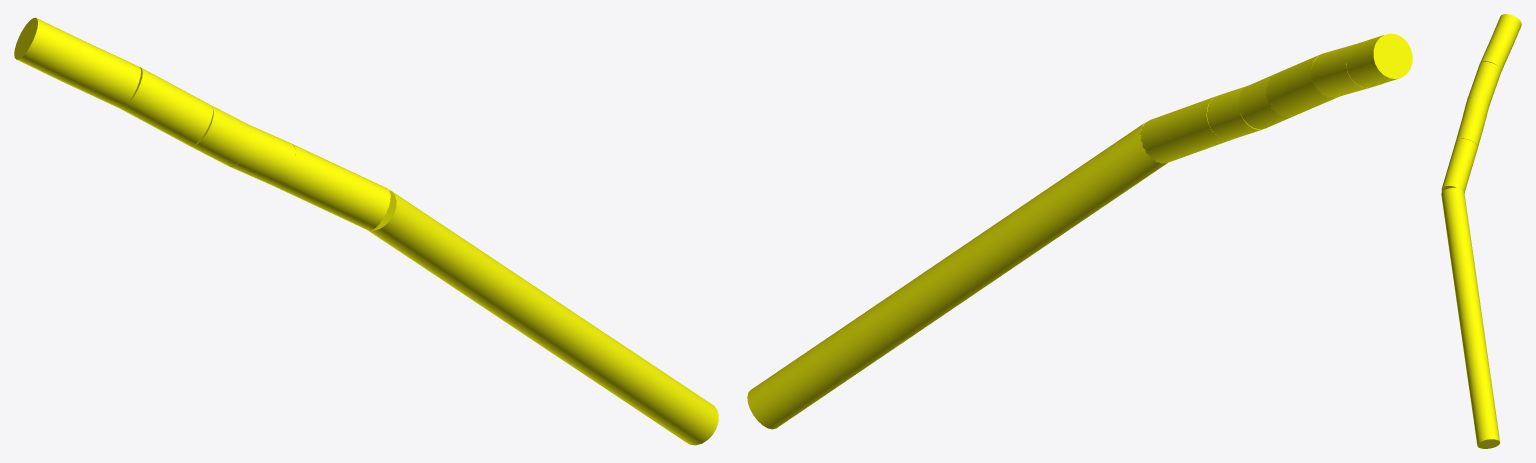
3 views of the same model, side by side, from view 1: azimuth 30°, elevation 25°; view 2: azimuth 150°, elevation 25°; view 3: azimuth 270°, elevation 25° (orthographic). The views are drawn at different scales.
Parts seen in each view (by area): view 1: Cylinder(Clone) (×7); view 2: Cylinder(Clone) (×7); view 3: Cylinder(Clone) (×7).
Part boxes in pixels (left/top/right/bottom): Cylinder(Clone) (×7): left=14, top=17, right=718, bottom=445; Cylinder(Clone) (×7): left=747, top=33, right=1412, bottom=429; Cylinder(Clone) (×7): left=1441, top=14, right=1521, bottom=448.
Bounding box in the file's own units: 0.1689 × 0.1339 × 0.0348.
